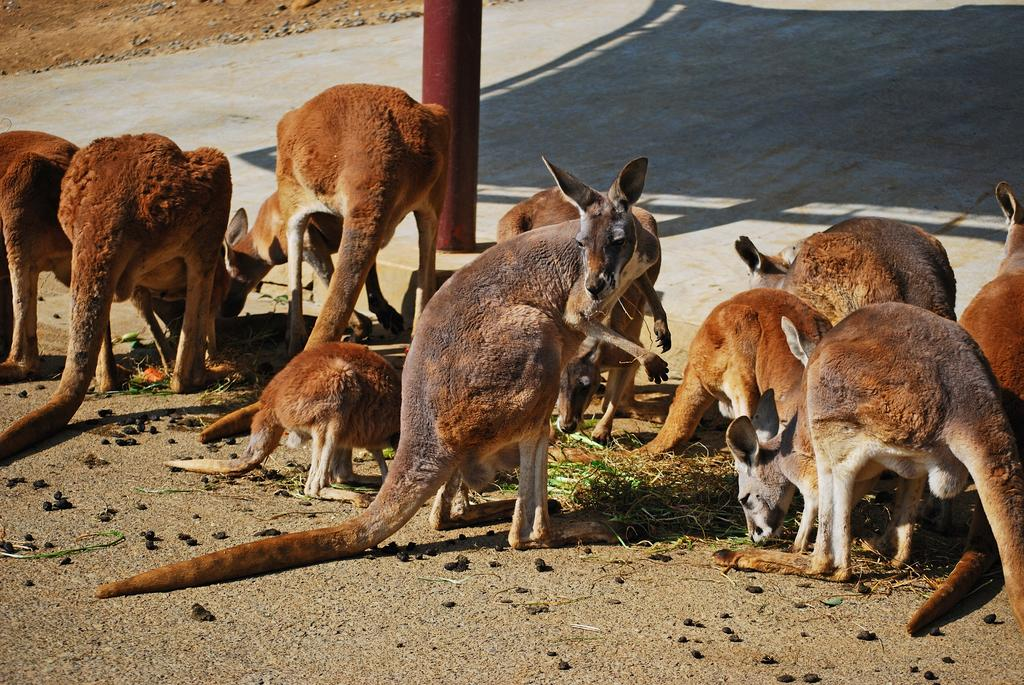kangaroo: (0, 82, 1023, 654)
